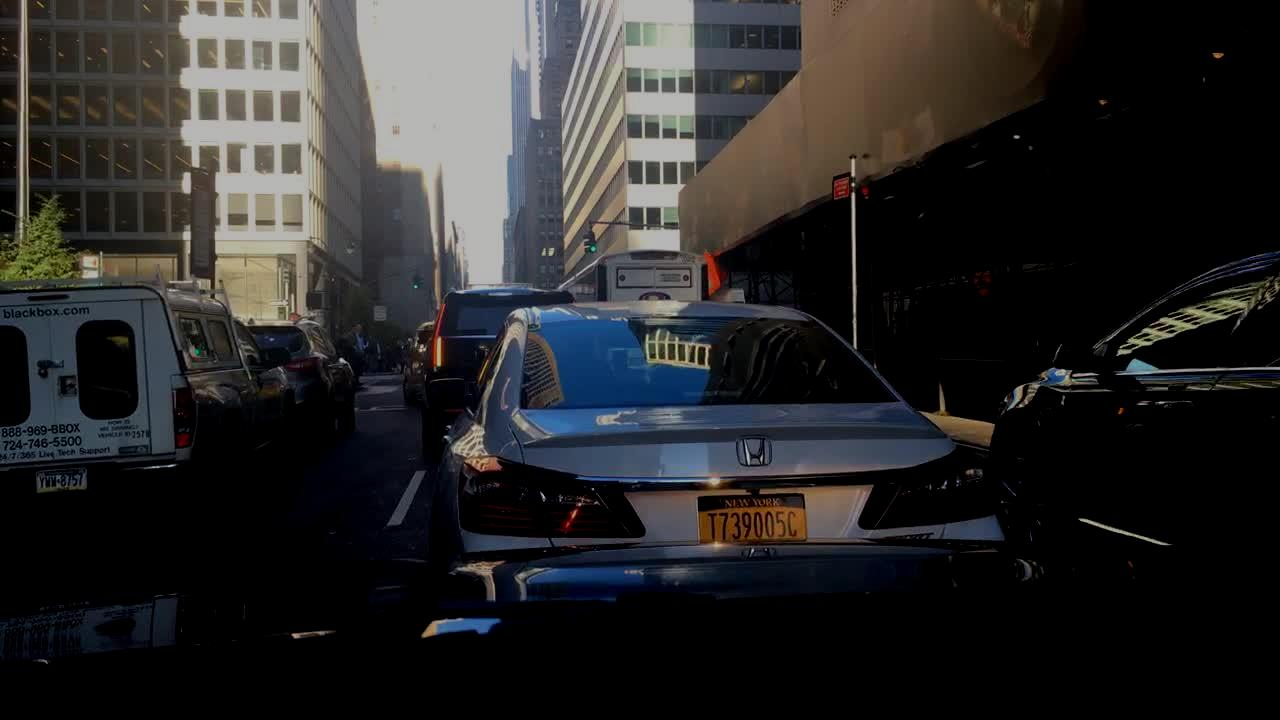Honda: (722, 428, 782, 470)
